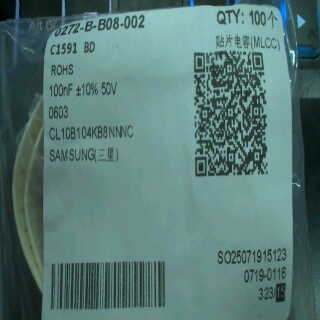100nF: (46, 80, 74, 101)
